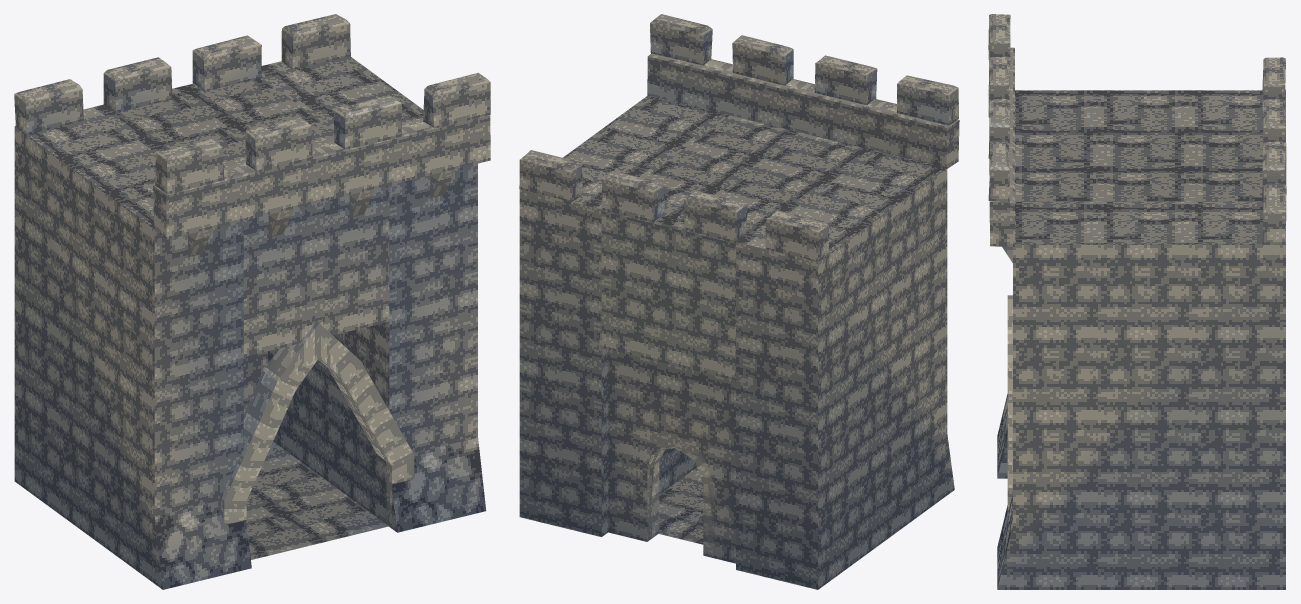
File: cst.gatehouse.glb
3 renders of one model, left to right at view 1: azimuth 30°, elevation 25°; view 2: azimuth 150°, elevation 25°; view 3: azimuth 270°, elevation 25°, orthographic. The views are drawn at different scales.
Visible parts, largest first — view 1: kit_block, kit_top, kit_detail, kit_shell_passage_floor; view 2: kit_block, kit_top, kit_shell_passage_floor, kit_detail; view 3: kit_block, kit_top, kit_detail.
Part boxes in pixels (x1=…): kit_block: x1=14, y1=56, x2=486, y2=589; kit_top: x1=14, y1=14, x2=490, y2=239; kit_detail: x1=188, y1=169, x2=455, y2=528; kit_shell_passage_floor: x1=246, y1=441, x2=388, y2=559; kit_block: x1=519, y1=95, x2=954, y2=589; kit_top: x1=519, y1=14, x2=959, y2=261; kit_shell_passage_floor: x1=658, y1=467, x2=703, y2=544; kit_detail: x1=646, y1=439, x2=714, y2=558; kit_block: x1=997, y1=90, x2=1285, y2=589; kit_top: x1=988, y1=14, x2=1286, y2=246; kit_detail: x1=1002, y1=246, x2=1012, y2=513.
Size of the model in its own units: 8.04 by 10.3 by 6.56.
Materials: 5 (5 with a texture image).
